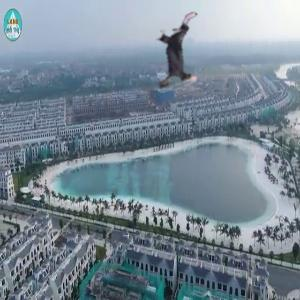drone: (131, 15, 217, 101)
